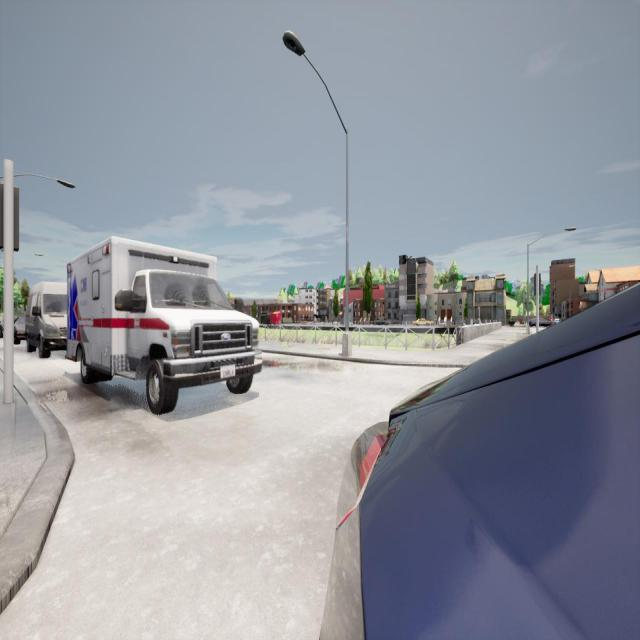Vehicle: (321, 286, 640, 640), (66, 237, 264, 415), (25, 281, 66, 358), (14, 315, 25, 344), (529, 317, 550, 327), (412, 318, 435, 327), (554, 318, 560, 324)
traffic_light: (0, 181, 20, 251), (534, 274, 541, 296)
